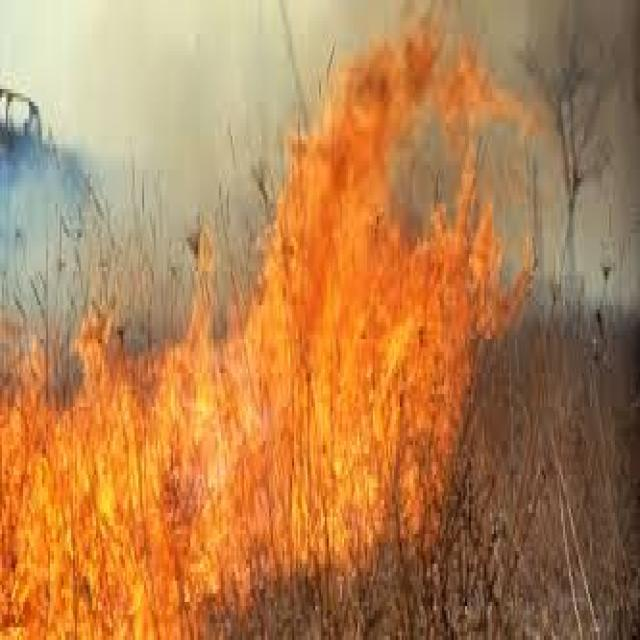Fire: (3, 344, 253, 640), (278, 175, 458, 564), (294, 69, 498, 155)
Smoke: (6, 7, 258, 279), (537, 14, 638, 327)
